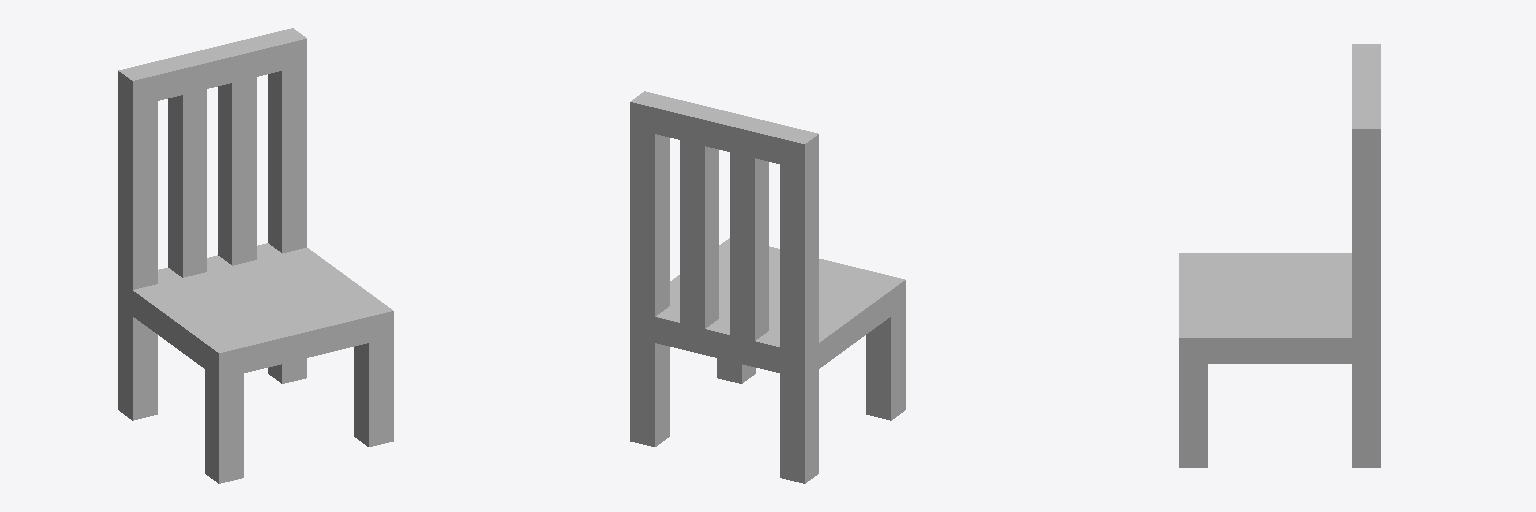
File: Chair.obj
3 renders of one model, left to right at view 1: azimuth 30°, elevation 25°; view 2: azimuth 150°, elevation 25°; view 3: azimuth 270°, elevation 25°, orthographic.
Parts seen in each view (by area): view 1: object 1; view 2: object 1; view 3: object 1.
Part boxes in pixels (left/top/right/bottom): object 1: left=118, top=28, right=393, bottom=483; object 1: left=630, top=91, right=905, bottom=483; object 1: left=1179, top=44, right=1380, bottom=467.
Bounding box in the file's own units: 0.7 × 1.3 × 0.7.